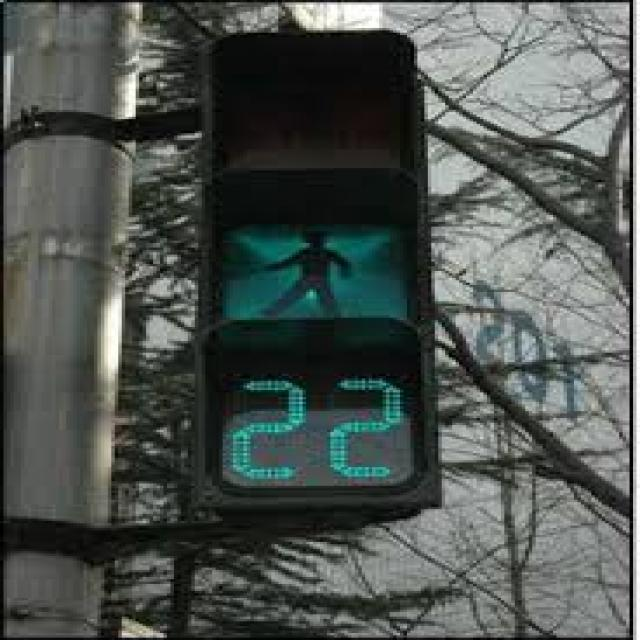Go: (150, 22, 497, 536), (156, 183, 466, 362)
